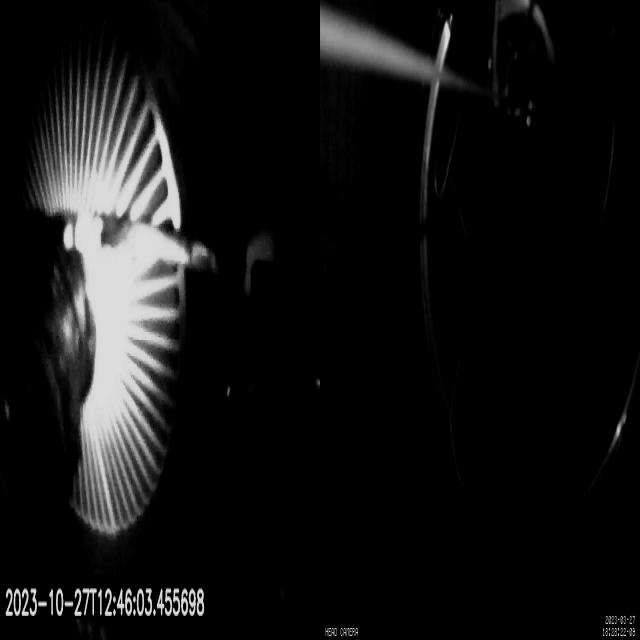head: (245, 225, 278, 297)
